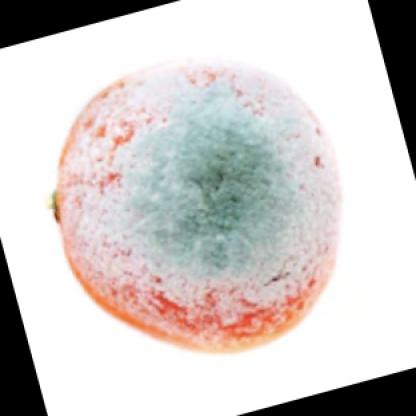rotten_orange: (30, 40, 345, 354)
